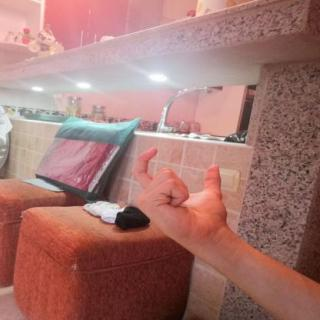NOON: (120, 140, 237, 252)
